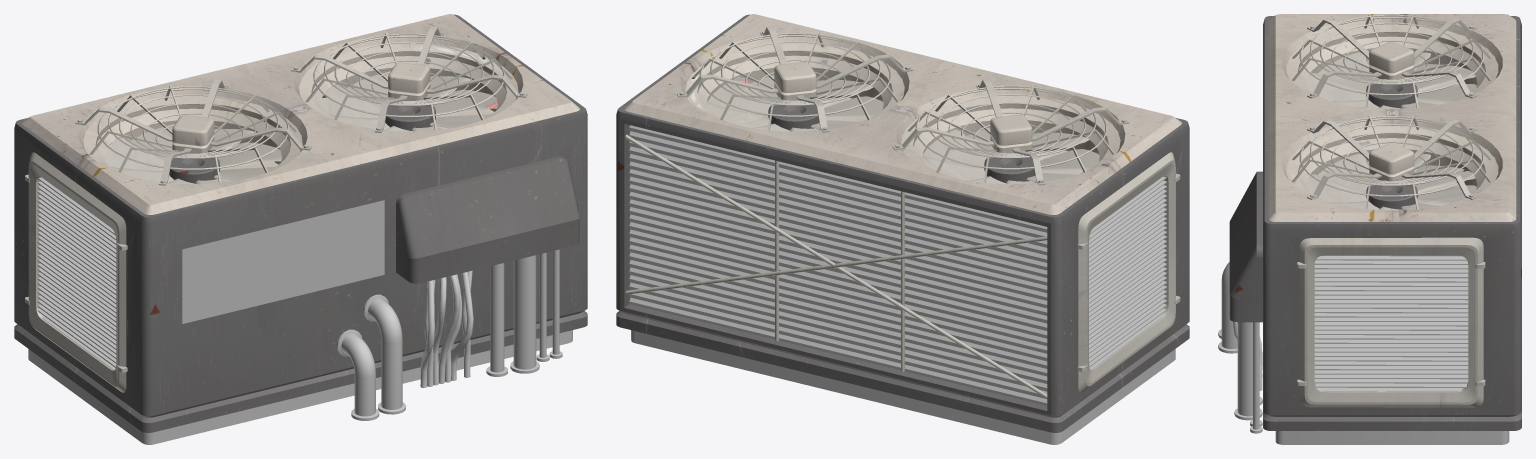
File: KB3D_CBP_ACunit_E.fbx
3 views of the same model, side by side, from view 1: azimuth 30°, elevation 25°; view 2: azimuth 150°, elevation 25°; view 3: azimuth 270°, elevation 25° (orthographic). The views are drawn at different scales.
Visible parts, largest first — view 1: KB3D_CBP_ACunit_E_Main; view 2: KB3D_CBP_ACunit_E_Main; view 3: KB3D_CBP_ACunit_E_Main.
Boxes of the visible parts, <box> form: KB3D_CBP_ACunit_E_Main: <box>14,14,587,444</box>; KB3D_CBP_ACunit_E_Main: <box>616,14,1189,444</box>; KB3D_CBP_ACunit_E_Main: <box>1218,14,1521,444</box>.
Bounding box in the file's own units: 332 × 178 × 199.
